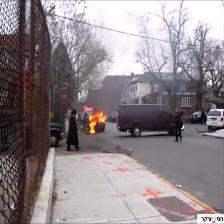fire: (81, 108, 110, 134)
